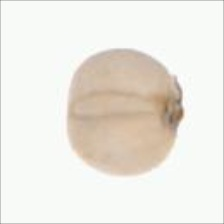L5: (59, 87, 167, 128), (157, 66, 184, 145)
L6: (60, 45, 190, 182)
